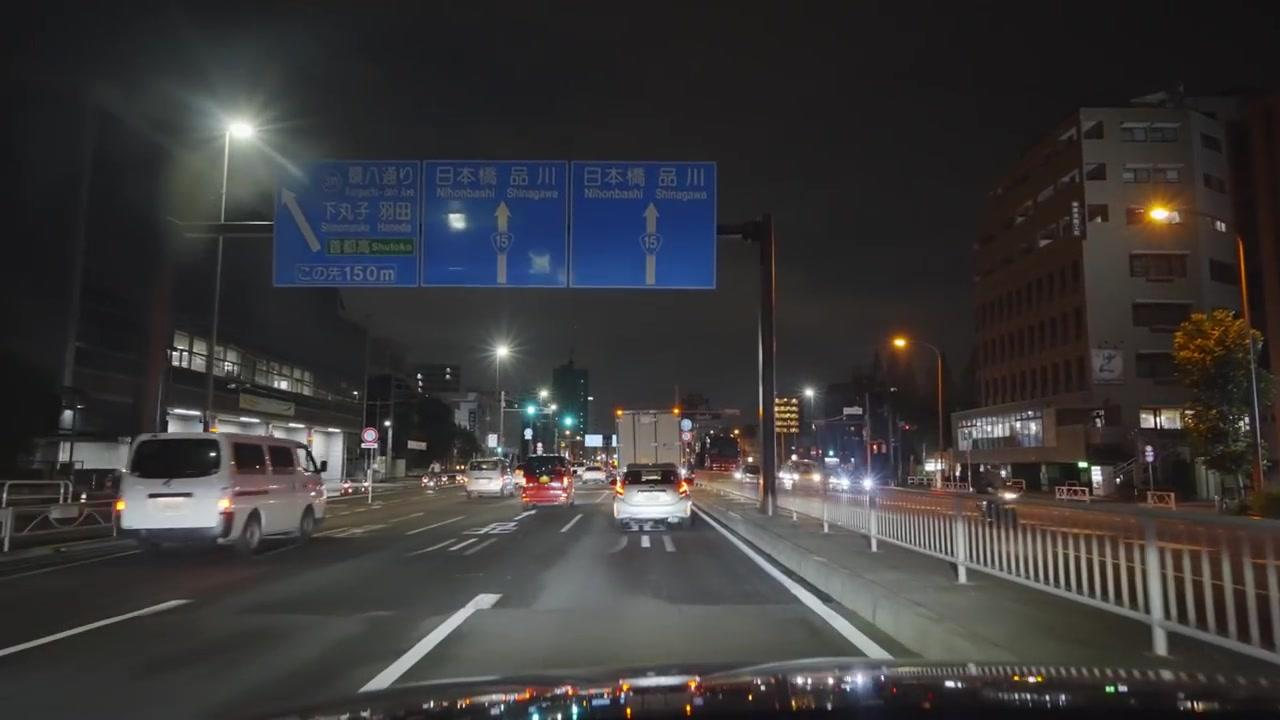car: (117, 427, 326, 557), (612, 459, 693, 532), (521, 455, 575, 506), (465, 456, 513, 500), (777, 461, 827, 493), (576, 467, 608, 486), (421, 473, 443, 489)
traffic light: (560, 410, 575, 431), (673, 403, 681, 415)
truck: (613, 409, 690, 525)
